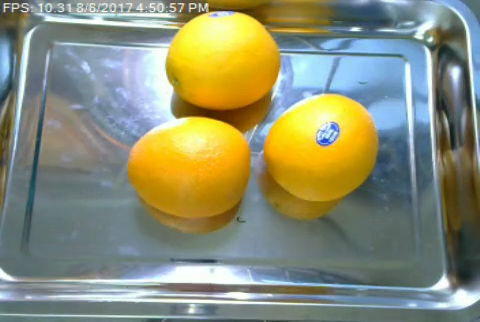Orange: (126, 114, 252, 219), (262, 92, 378, 202), (165, 9, 282, 109)
